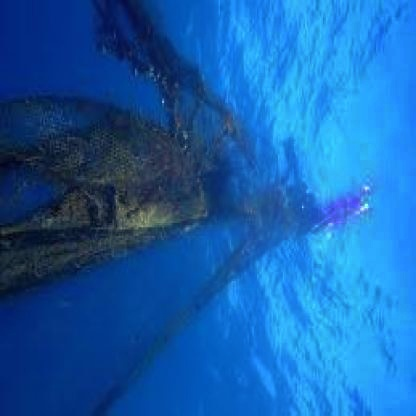net: (2, 97, 214, 283)
